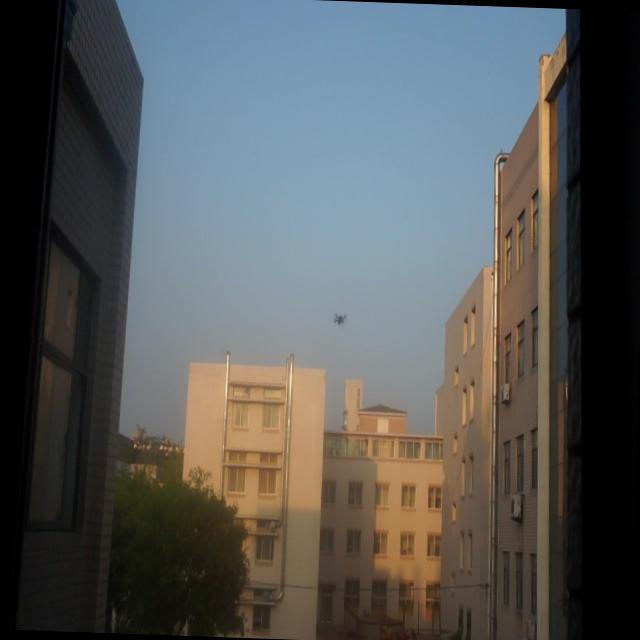drone: (332, 307, 346, 328)
